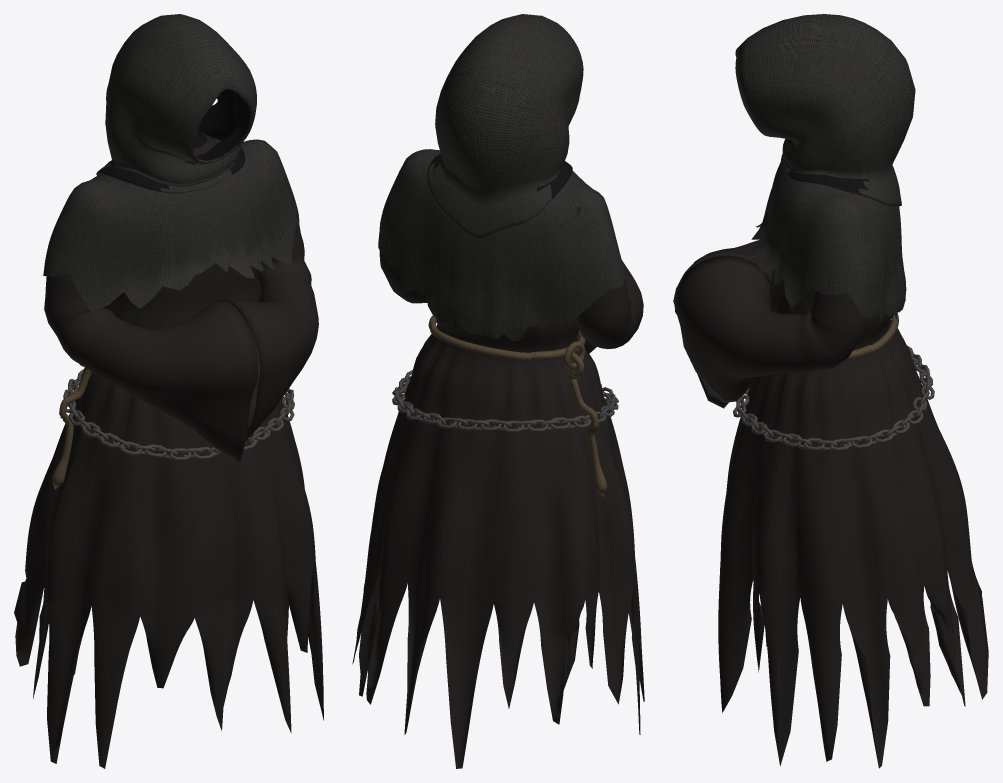
Rendered from custode.glb.
3 renders of one model, left to right at view 1: azimuth 30°, elevation 25°; view 2: azimuth 150°, elevation 25°; view 3: azimuth 270°, elevation 25°, orthographic. The views are drawn at different scales.
Visible parts, largest first — view 1: tunica, maniche, mantello, cappuccio, catena, corda; view 2: tunica, mantello, cappuccio, maniche, catena, corda; view 3: tunica, cappuccio, maniche, mantello, catena.
Part boxes in pixels (left/top/right/bottom): tunica: left=14, top=131, right=323, bottom=768; maniche: left=44, top=224, right=318, bottom=462; mantello: left=43, top=135, right=299, bottom=312; cappuccio: left=96, top=14, right=256, bottom=193; catena: left=63, top=369, right=294, bottom=460; corda: left=51, top=364, right=91, bottom=489; tunica: left=352, top=296, right=644, bottom=768; mantello: left=378, top=149, right=625, bottom=341; cappuccio: left=427, top=14, right=583, bottom=238; maniche: left=379, top=201, right=643, bottom=353; catena: left=392, top=370, right=618, bottom=432; corda: left=428, top=315, right=607, bottom=496; tunica: left=718, top=269, right=988, bottom=768; cappuccio: left=735, top=14, right=915, bottom=206; maniche: left=673, top=240, right=868, bottom=408; mantello: left=745, top=163, right=906, bottom=322; catena: left=733, top=345, right=934, bottom=451.
Size of the model in its own units: 1.36 by 3.4 by 1.4.
Materials: 6 (3 with a texture image).
